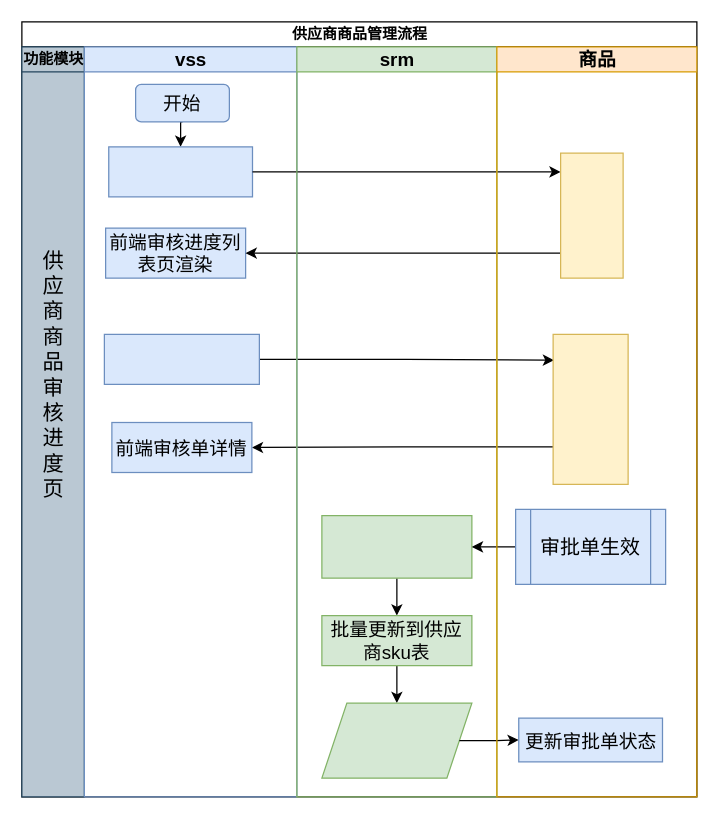
The diagram is 719 pixels wide and 819 high, and some of its shapes have lost their labels. Each missing label, with the centre of its shape:
"更新结果数据" belongs at [396,740].
"查看审批单详情" belongs at [181,358].
"查询审批单列表" belongs at [180,171].
"查询审批单详情" belongs at [590,408].
"查询当前供应商审批列表" belongs at [591,215].
"记录到商品修改审批表" belongs at [396,546].
